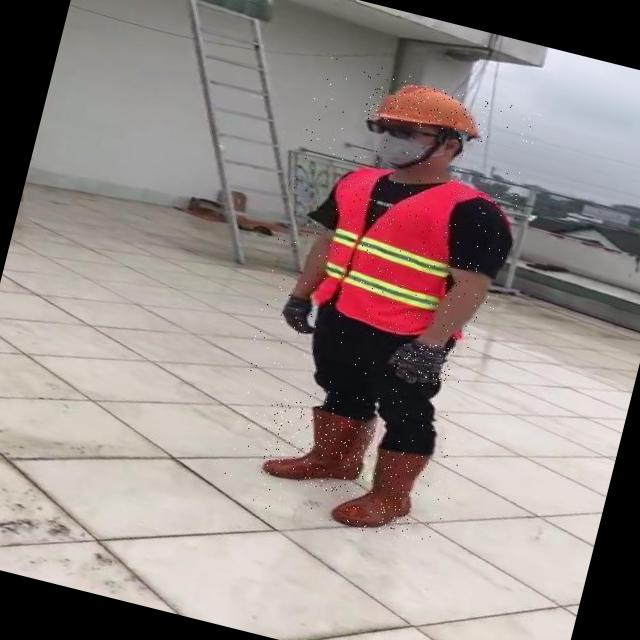hard_hat: (363, 72, 491, 144)
safety_vest: (304, 156, 508, 350)
vehicle: (212, 52, 546, 552)
work_boots: (260, 396, 378, 498), (328, 436, 429, 541)
